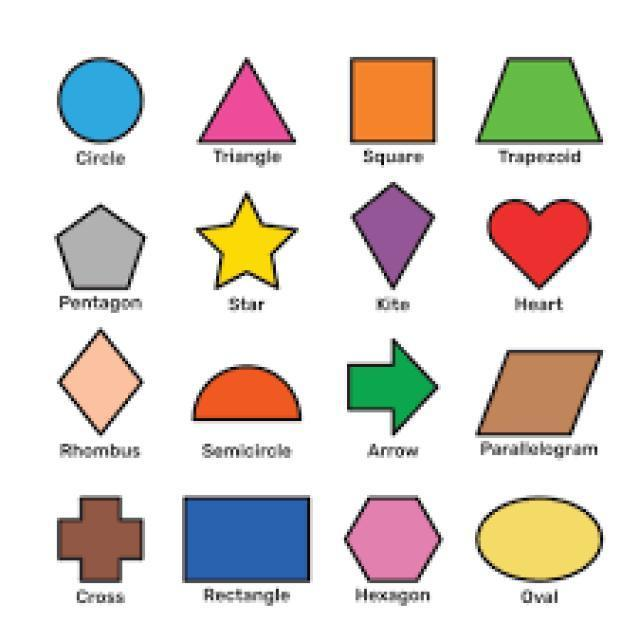circle: (473, 478, 605, 603), (43, 38, 164, 172)
cross: (45, 468, 164, 617)
square: (326, 36, 466, 182)
triangle: (198, 46, 318, 176)
